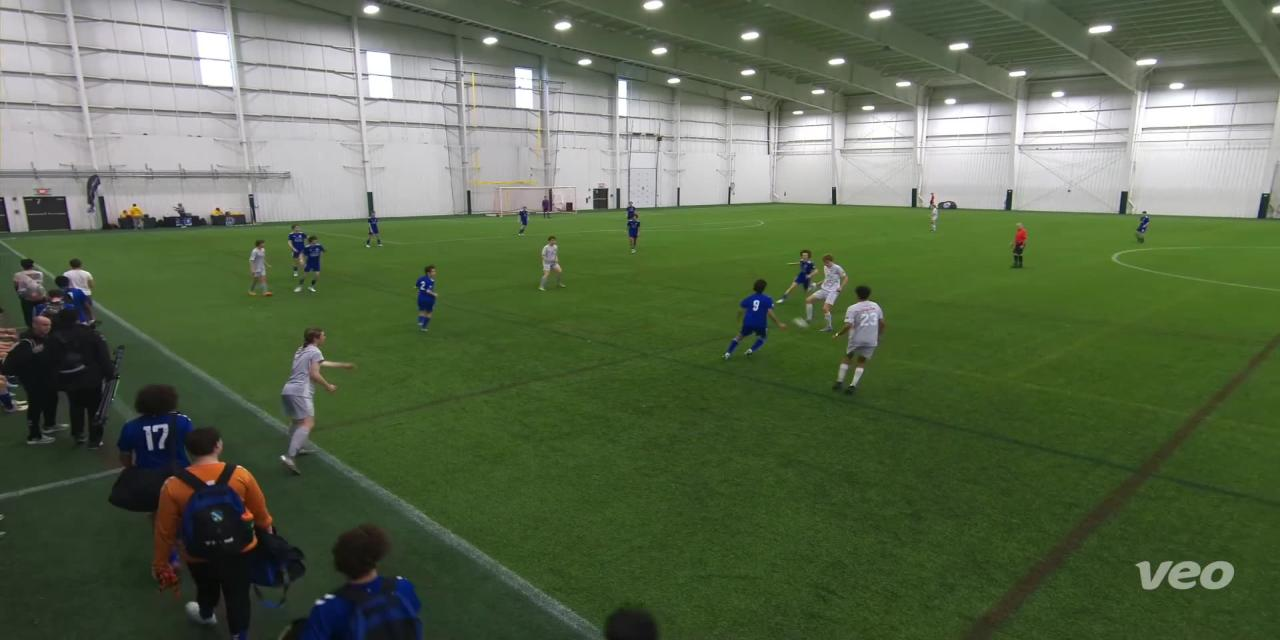goal: (488, 182, 586, 218)
sports ball: (788, 312, 813, 334)
